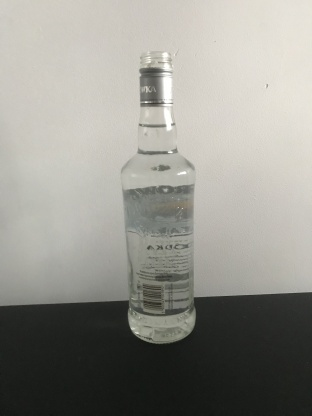nakretka: (137, 48, 175, 108)
